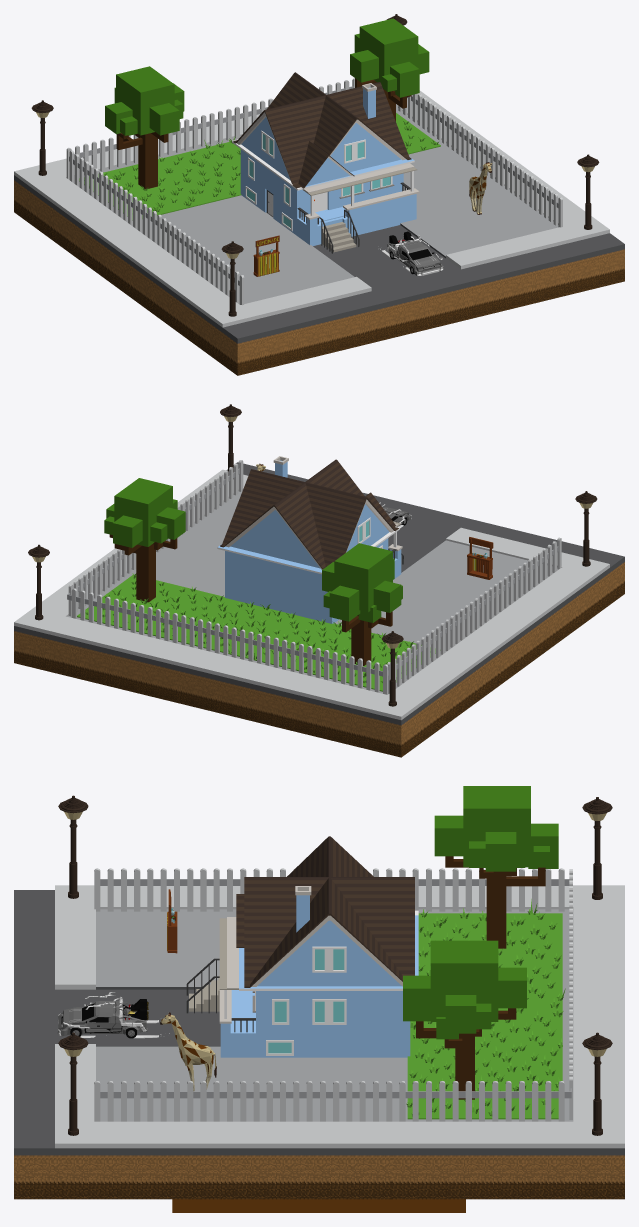
3 views of the same model, one above another, from view 1: azimuth 30°, elevation 25°; view 2: azimuth 150°, elevation 25°; view 3: azimuth 270°, elevation 25° (orthographic). The views are drawn at different scales.
Parts seen in each view (by area): view 1: Cube.004, Cube.1594, VEHICLES_DELOREAN, OBJRANDOM_LEMONADE_STAND, ANIMAL_JIRAFA; view 2: Cube.004, Cube.1594, OBJRANDOM_LEMONADE_STAND; view 3: Cube.004, Cube.1594, UNDERGROUND_ART_PIECE_VAN_GOGH, VEHICLES_DELOREAN, ANIMAL_JIRAFA.
Part boxes in pixels (x1,y1,x2,y2): Cube.004: (14,14,624,375); Cube.1594: (232,72,419,253); VEHICLES_DELOREAN: (380,231,443,275); OBJRANDOM_LEMONADE_STAND: (253,235,279,276); ANIMAL_JIRAFA: (469,162,492,214); Cube.004: (14,404,624,757); Cube.1594: (217,456,403,623); OBJRANDOM_LEMONADE_STAND: (467,537,493,579); Cube.004: (14,786,624,1199); Cube.1594: (186,836,418,1057); UNDERGROUND_ART_PIECE_VAN_GOGH: (172,1199,465,1212); VEHICLES_DELOREAN: (58,992,169,1038); ANIMAL_JIRAFA: (160,1012,216,1091).
Size of the model in its own units: 4000 by 1726 by 4000.
Materials: 44 (4 with a texture image).
